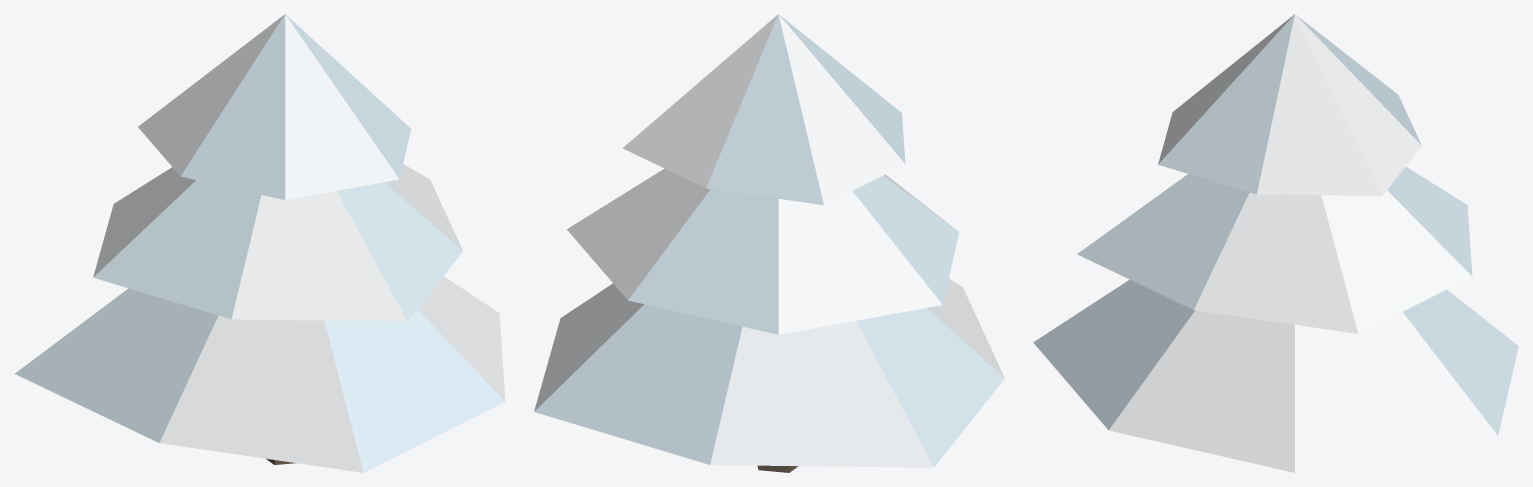
File: SnowPine.fbx
The picture shows the model from 3 angles, left to right: view 1: azimuth 30°, elevation 25°; view 2: azimuth 150°, elevation 25°; view 3: azimuth 270°, elevation 25°; orthographic projection.
Parts seen in each view (by area): view 1: SnowPine; view 2: SnowPine; view 3: SnowPine.
Part boxes in pixels (box(x1,y1,x2,y2)): SnowPine: box(14, 14, 505, 472); SnowPine: box(534, 14, 1004, 472); SnowPine: box(1033, 14, 1518, 472).
Bounding box in the file's own units: 2.98 × 2.95 × 2.92.
